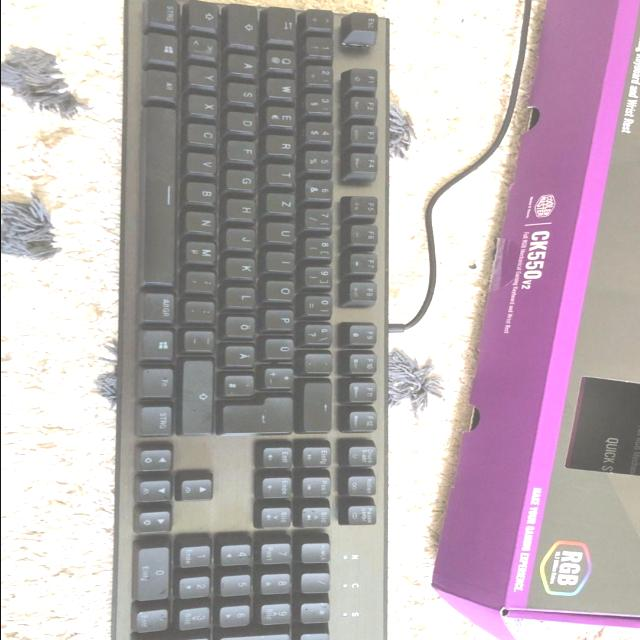0: (305, 294, 335, 316)
1: (306, 35, 336, 55)
2: (306, 64, 336, 86)
3: (306, 92, 335, 113)
4: (307, 121, 337, 143)
5: (306, 149, 336, 171)
6: (306, 179, 336, 200)
7: (306, 207, 336, 229)
8: (305, 236, 335, 259)
9: (305, 265, 335, 287)
a: (229, 53, 261, 74)
accent: (305, 352, 335, 374)
ae: (226, 344, 258, 366)
alt-left: (147, 68, 181, 100)
altgr-right: (144, 291, 178, 322)
b: (187, 181, 220, 205)
c: (189, 122, 221, 146)
caret: (307, 8, 336, 29)
comma: (186, 270, 219, 292)
d: (228, 111, 260, 132)
del: (303, 380, 335, 432)
e: (267, 106, 299, 127)
enter: (221, 396, 296, 434)
f: (228, 140, 258, 161)
g: (227, 169, 259, 190)
h: (227, 197, 259, 220)
hash: (224, 374, 258, 396)
i: (268, 250, 298, 271)
j: (227, 228, 259, 250)
k: (227, 257, 259, 279)
keyboard: (111, 0, 391, 640)
l: (227, 286, 259, 308)
less: (189, 35, 221, 58)
m: (186, 240, 220, 264)
minus: (185, 329, 217, 351)
n: (186, 210, 220, 234)
o: (267, 279, 297, 301)
oe: (226, 315, 258, 337)
p: (267, 308, 297, 329)
plus: (266, 367, 296, 388)
point: (186, 300, 218, 322)
q: (268, 48, 298, 71)
r: (267, 134, 297, 156)
s: (228, 82, 260, 104)
shift-left: (189, 0, 221, 28)
shift-lock: (228, 3, 260, 47)
shift-right: (183, 358, 216, 435)
space: (141, 105, 175, 286)
ss: (305, 322, 335, 346)
strg-left: (149, 0, 182, 27)
strg-right: (140, 404, 175, 437)
t: (268, 163, 298, 185)
tab: (268, 6, 298, 40)
u: (268, 222, 298, 243)
ue: (266, 338, 298, 359)
v: (188, 152, 220, 174)
w: (268, 77, 298, 98)
x: (189, 94, 221, 116)
y: (189, 64, 221, 86)
z: (267, 192, 297, 214)
